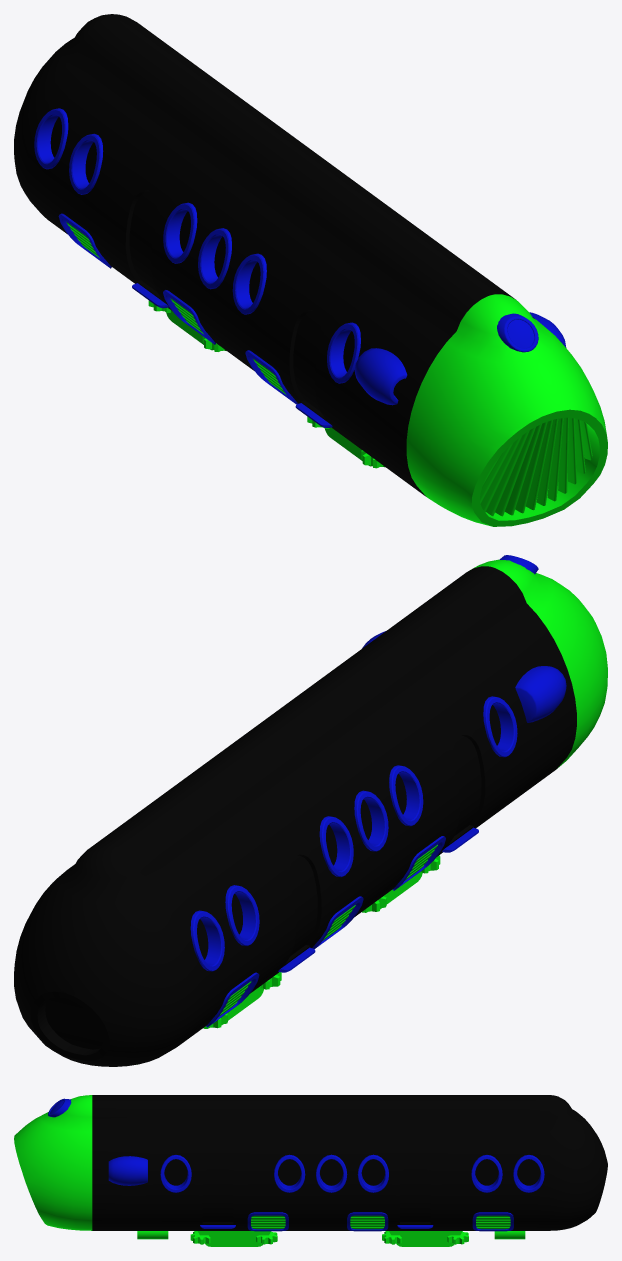
Rendered from Tram_Metal_01.FBX.
3 views of the same model, one above another, from view 1: azimuth 30°, elevation 25°; view 2: azimuth 150°, elevation 25°; view 3: azimuth 270°, elevation 25° (orthographic). The views are drawn at different scales.
Parts seen in each view (by area): view 1: Tram_Metal_01_LOD0; view 2: Tram_Metal_01_LOD0; view 3: Tram_Metal_01_LOD0.
Part boxes in pixels (x1=…): Tram_Metal_01_LOD0: x1=14, y1=14, x2=607, y2=526; Tram_Metal_01_LOD0: x1=14, y1=555, x2=607, y2=1066; Tram_Metal_01_LOD0: x1=14, y1=1095, x2=607, y2=1246.
Size of the model in its own units: 637 by 752 by 2834.
